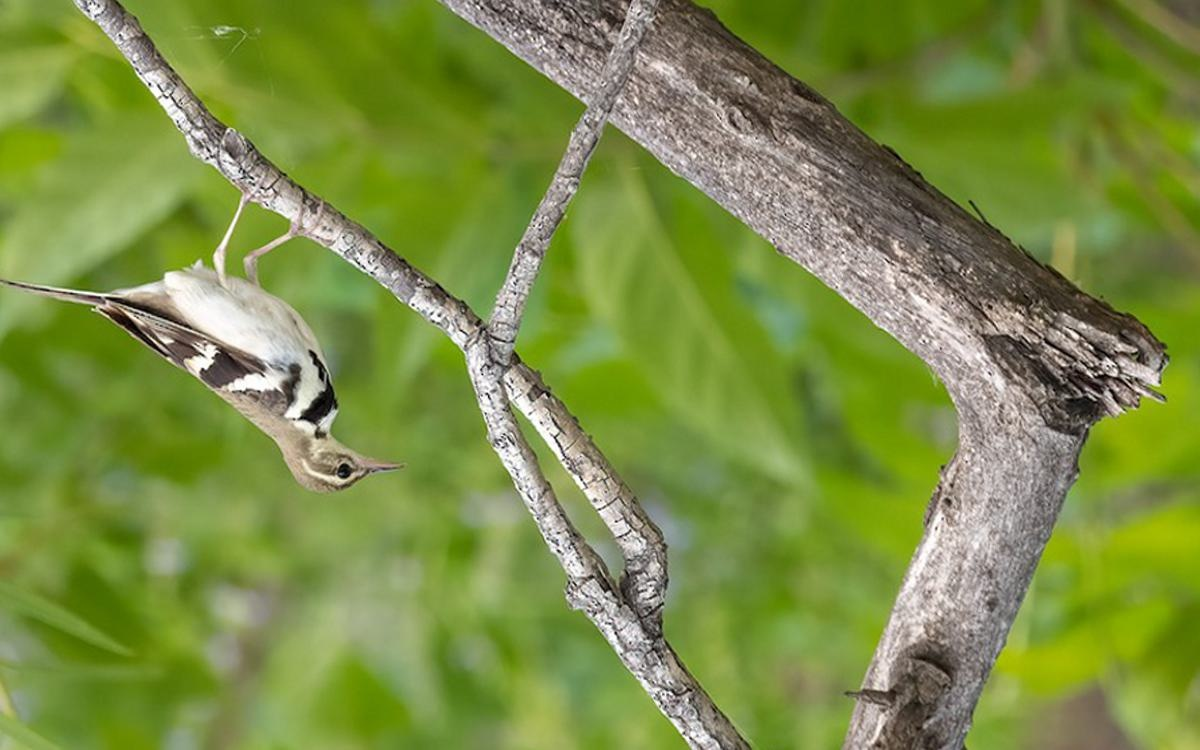wagtail: (1, 205, 421, 510)
